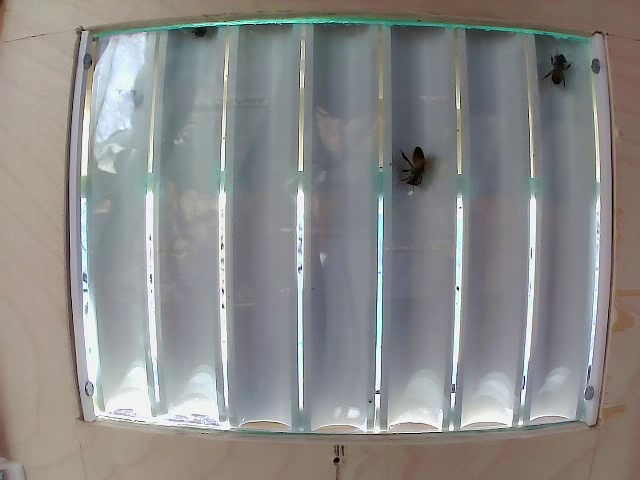bee: (393, 148, 432, 200), (543, 44, 576, 91)
